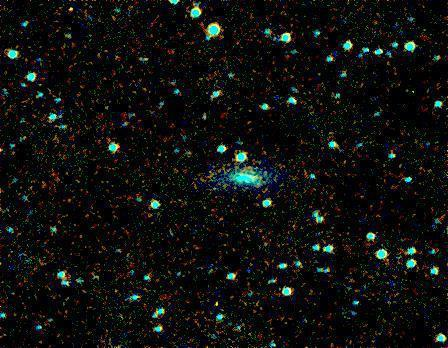star: (58, 0, 88, 22)
